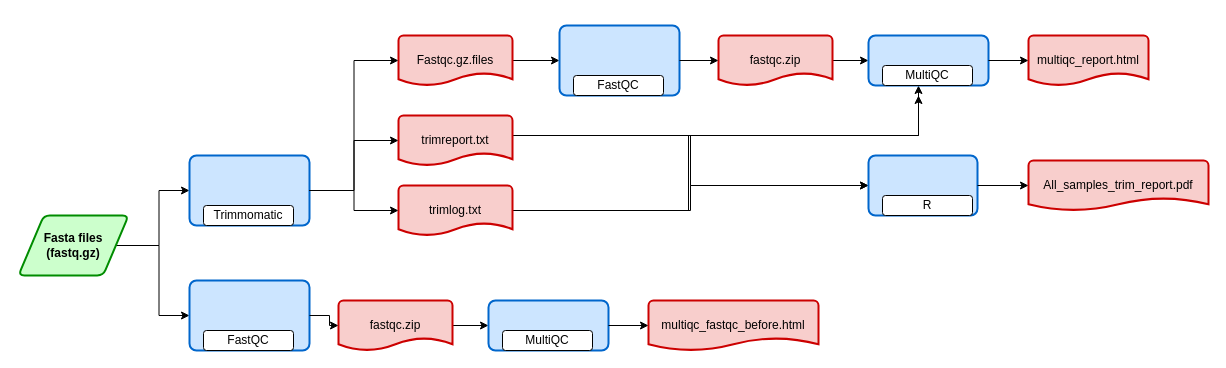
The diagram is 1226 pixels wide and 368 high, and some of its shapes have lost their labels. Here are the shapes that lost their labels. From the top down, the box of each, then its label:
(558, 24, 680, 96): Pos-trimming Quality assessment
(867, 34, 989, 86): Multiqc quality and trim report
(188, 154, 310, 226): Trimming of single end data
(867, 154, 978, 216): Trim report for single end data
(188, 279, 310, 351): Quality assessment
(487, 299, 609, 351): Plot quality
